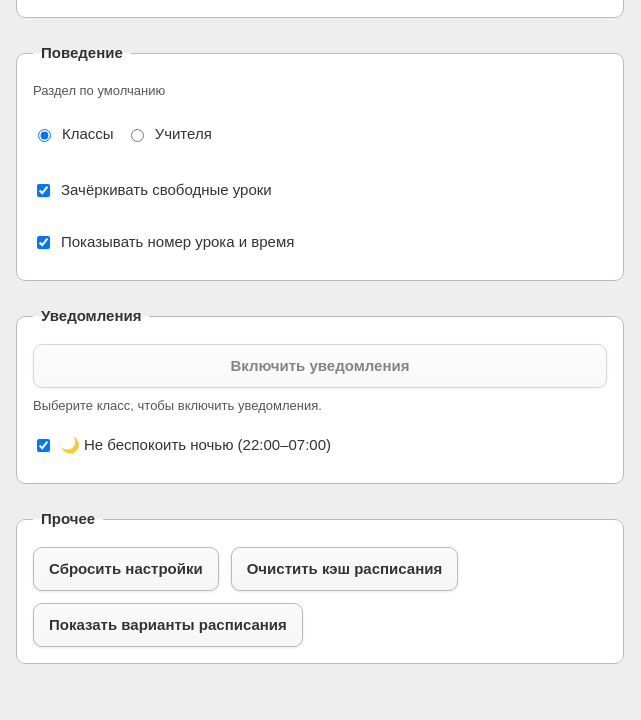
App shell › opens the schedule variants comparison from settings
The image size is (641, 720).
(page scrolled)
Click the button "Показать варианты расписания". click: [168, 624]
box: [33,602,303,646]
(page scrolled)
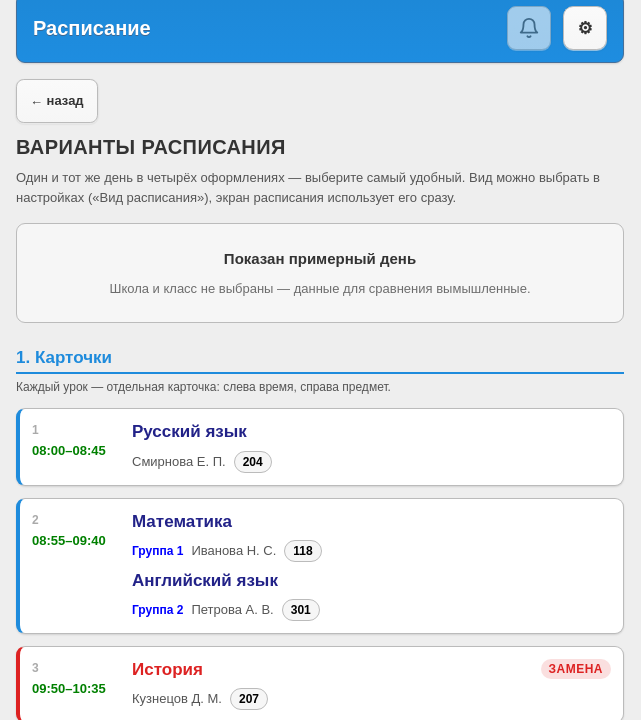
Check: the heading "1. Карточки" is shown, box [16,347,624,374]
